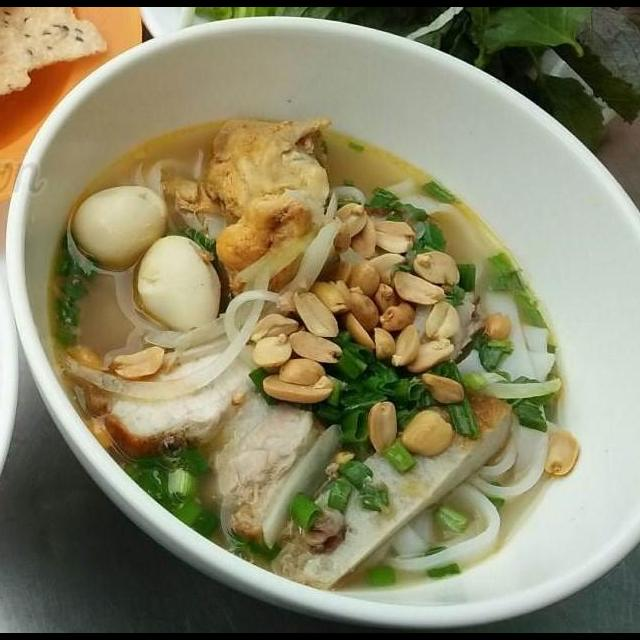mi: (377, 178, 562, 398), (361, 410, 563, 577), (128, 146, 232, 251)
thit heo: (162, 108, 340, 309), (77, 317, 280, 462), (196, 365, 328, 557)
trung: (67, 181, 173, 277), (132, 232, 224, 334)
